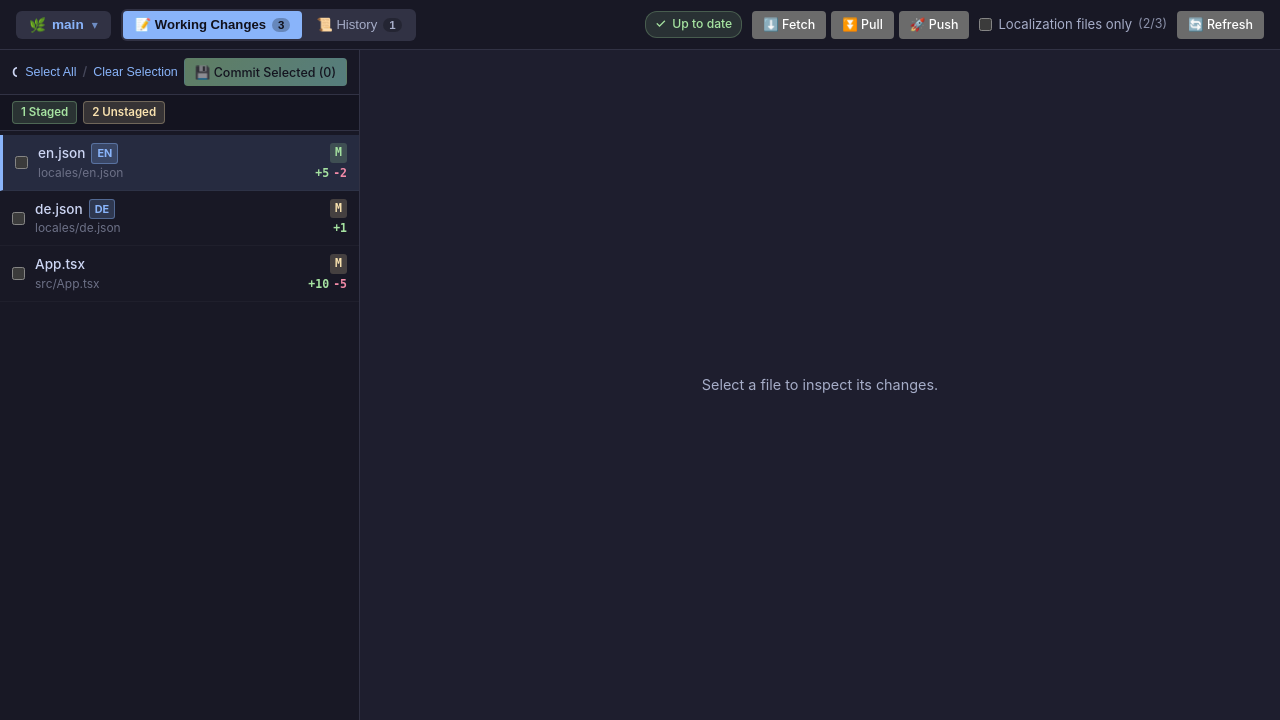
Scenario: GitSourceControlView › Selective Commit Workflow › disables commit button when no files are selected, enables when files are selected
This screenshot has width=1280, height=720.
Expected: the button with test id "git-commit-selected-btn" is disabled, [184, 58, 347, 86]
# Select en.json
Click the checkbox with test id "git-file-checkbox-en.json". click: (22, 162)
box: [15, 156, 28, 169]
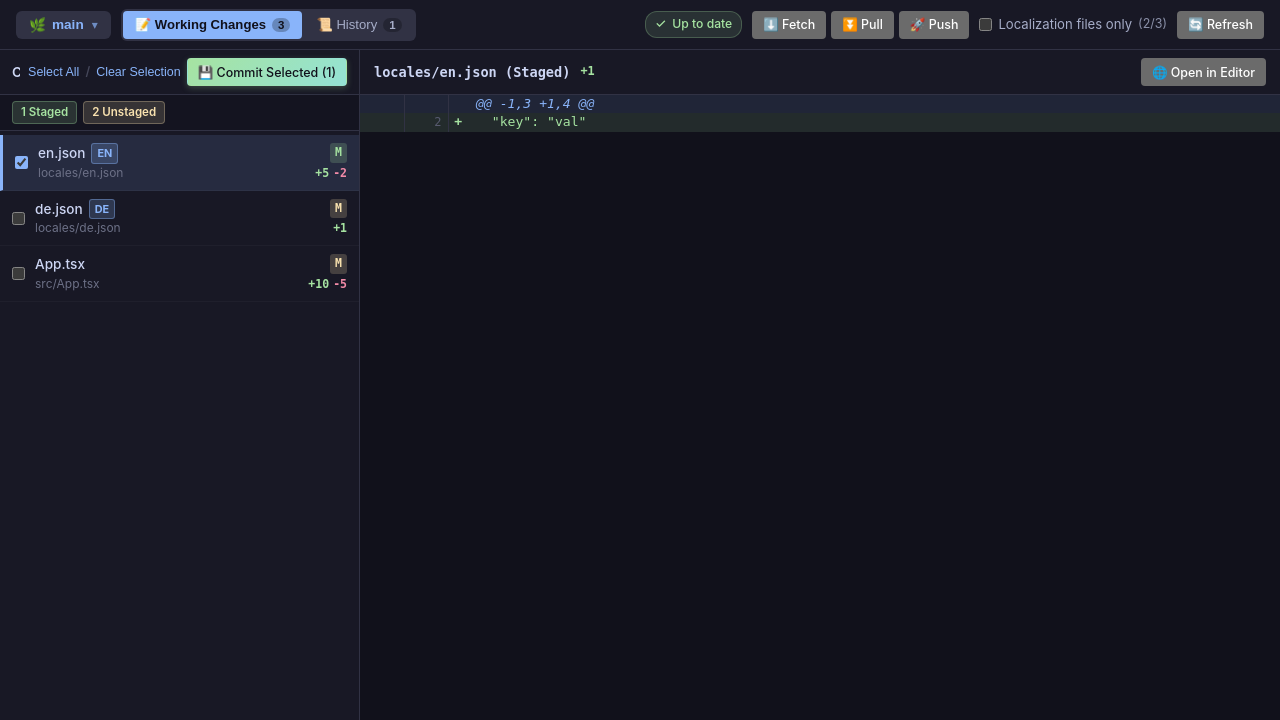
Result: the button with test id "git-commit-selected-btn" is enabled at [187, 58, 347, 86]
Result: the button with test id "git-commit-selected-btn" shows "1" at [187, 58, 347, 86]
